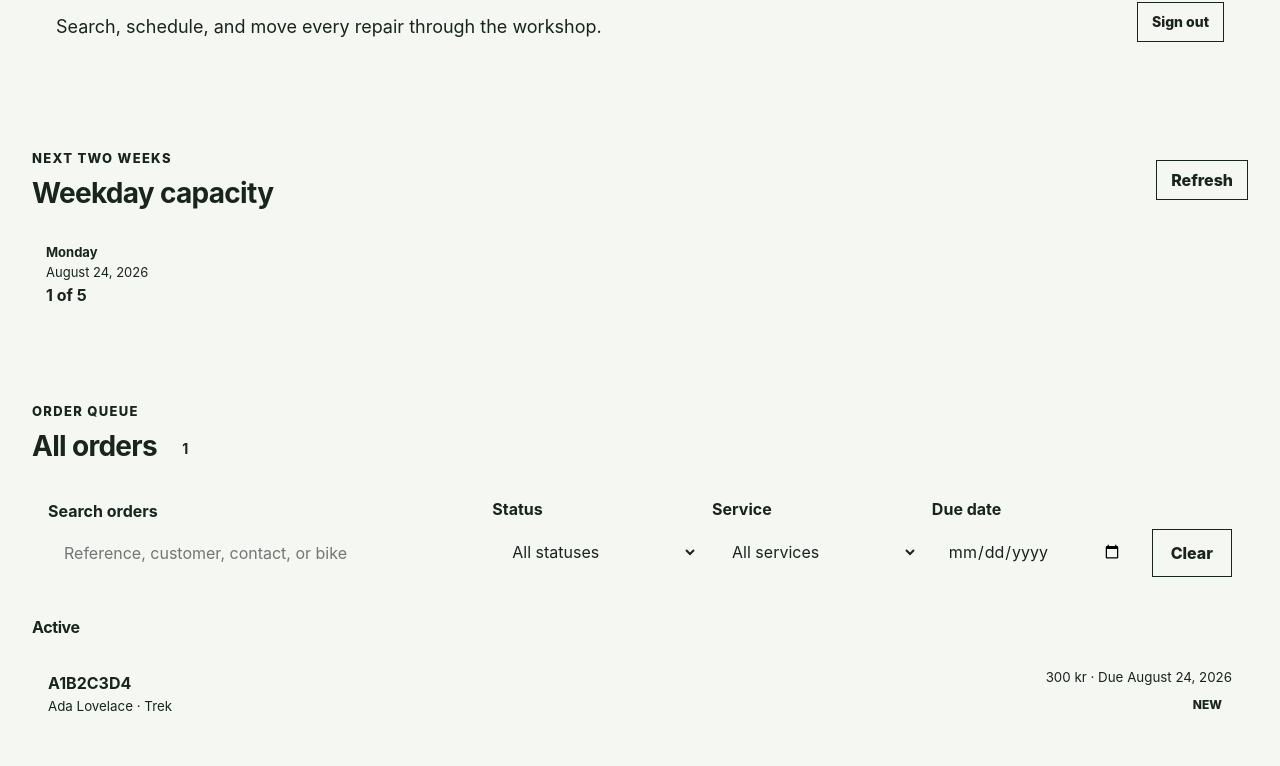
AdminPage › shows the total cost to the administrator
The image size is (1280, 766).
(page scrolled)
Click the button "A1B2C3D4" at {"x": 90, "y": 683}, box [32, 653, 1248, 734]
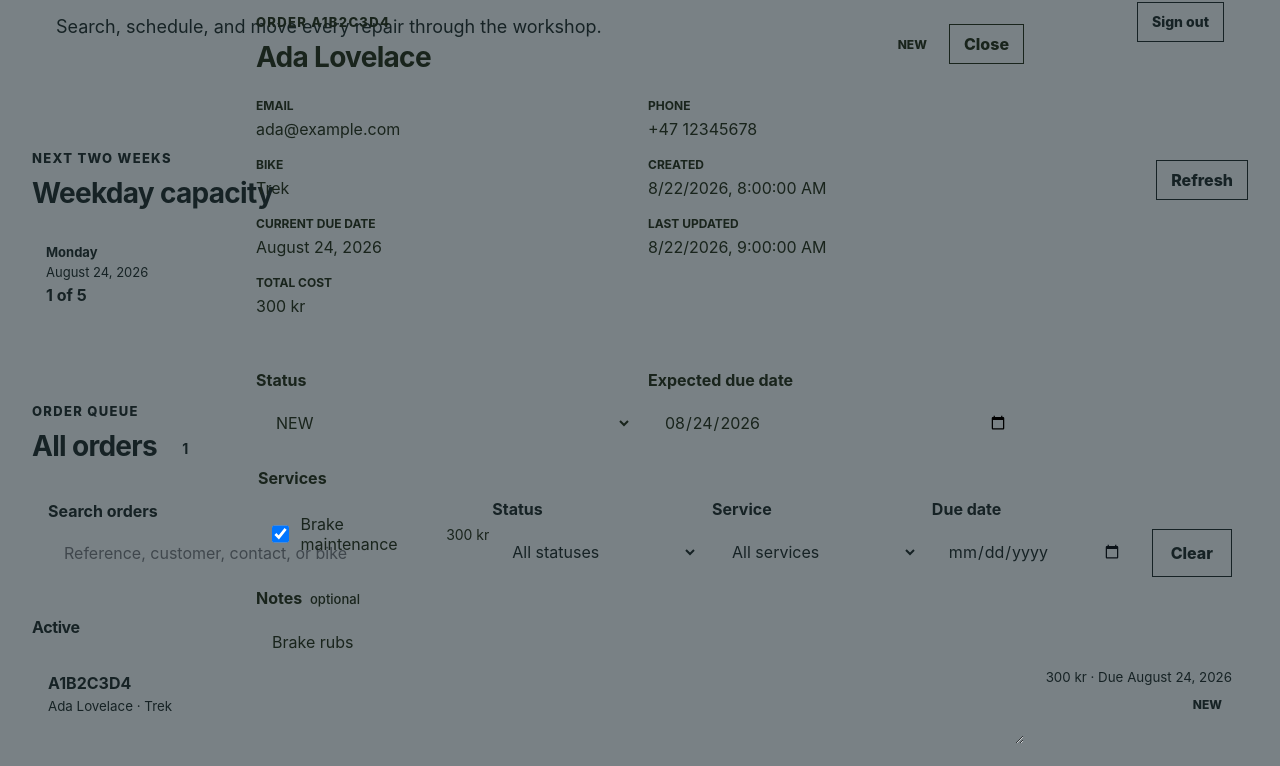
Expected: the text "300 kr · Due August 24, 2026" is shown, [1046, 669, 1232, 685]
Expected: the text "Total cost" is shown, [256, 275, 332, 290]
